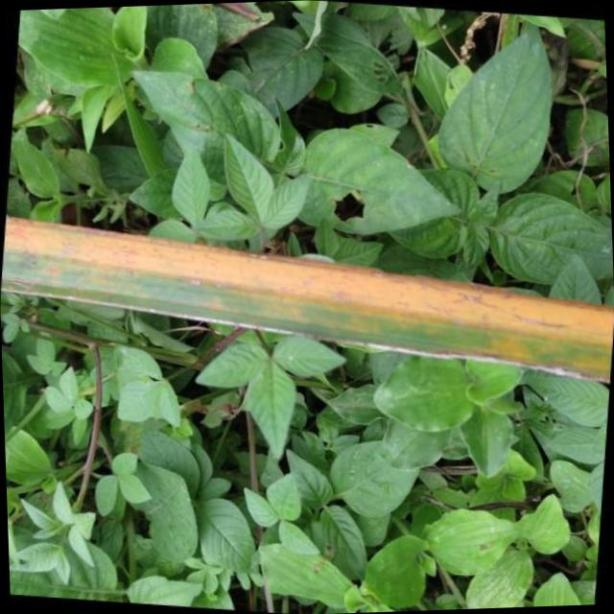Megnesium: (0, 206, 614, 384)
